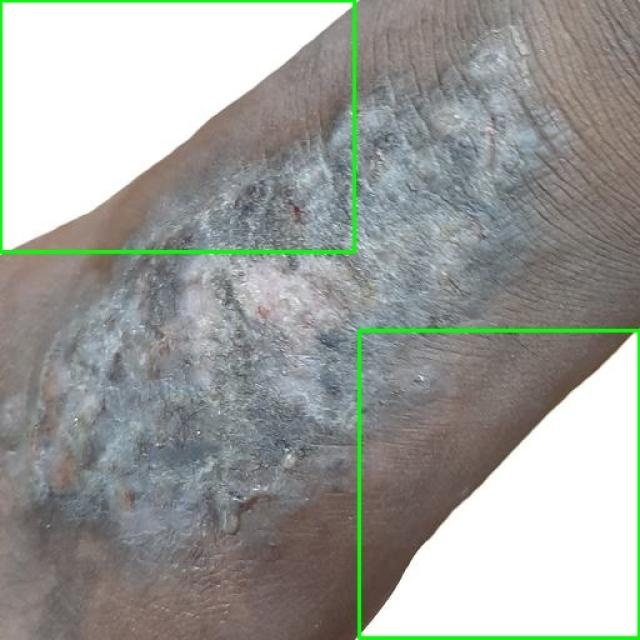Contact Dermatitis: (0, 0, 354, 251), (359, 331, 639, 639)
